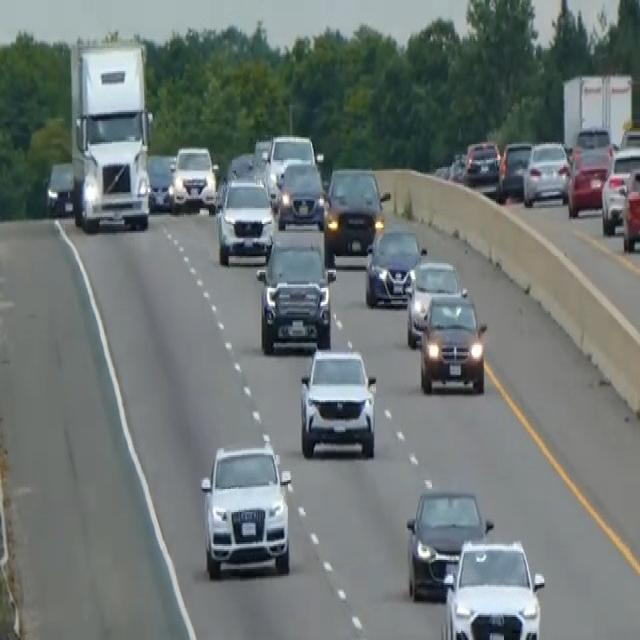car: (441, 537, 545, 638), (404, 485, 492, 601), (298, 345, 377, 459), (418, 286, 487, 395), (323, 164, 386, 258), (215, 174, 274, 265), (364, 222, 425, 308), (405, 256, 461, 347), (264, 132, 318, 204), (276, 157, 325, 231), (601, 144, 639, 233), (522, 137, 570, 206), (566, 144, 611, 217), (172, 142, 217, 212), (462, 137, 502, 197), (498, 139, 532, 199), (571, 122, 613, 170), (45, 158, 75, 217), (146, 151, 175, 212), (620, 164, 639, 252), (225, 149, 263, 185)
jeep: (199, 439, 293, 580), (254, 234, 337, 356)
lorry: (68, 37, 153, 233)
